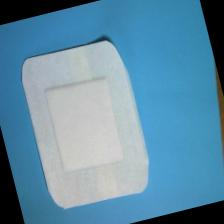Dressing: (14, 31, 162, 217)
